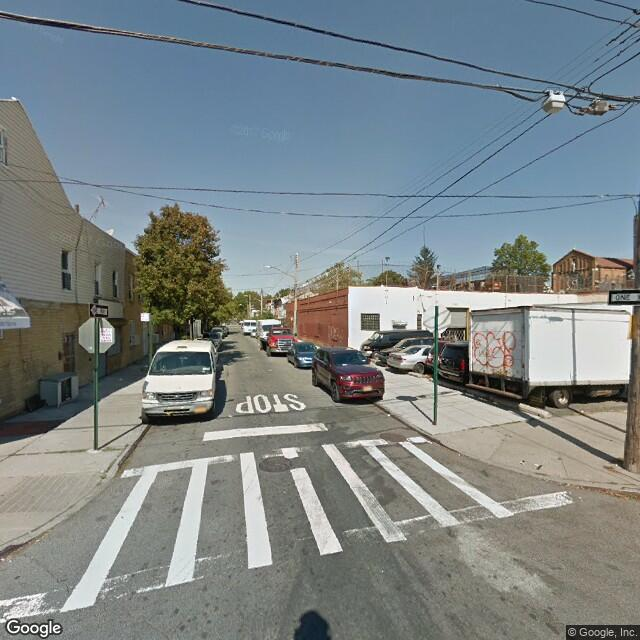litter: (533, 463, 545, 468), (578, 407, 586, 412), (383, 412, 391, 416), (228, 412, 232, 415), (1, 558, 7, 559)
